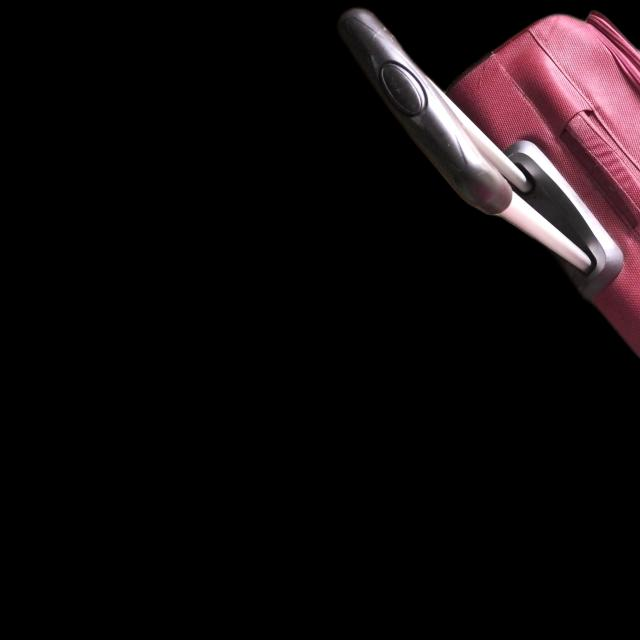Bag: (304, 0, 640, 379)
Handle: (326, 5, 629, 285)
